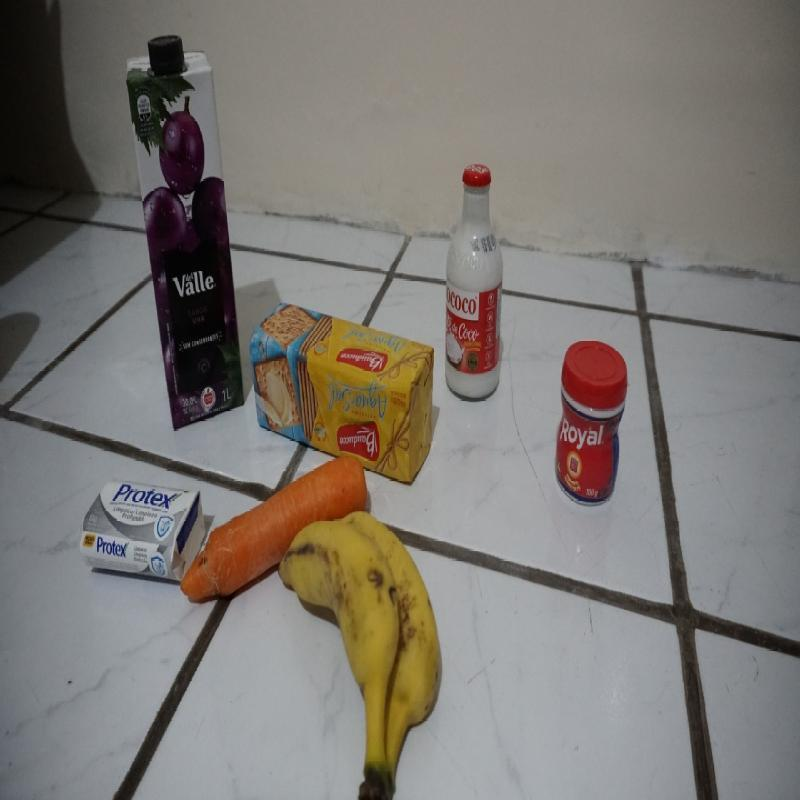Banana: (275, 512, 442, 798)
Carrot: (181, 452, 368, 613)
Coconut Milk: (444, 158, 502, 406)
Cracker: (247, 299, 435, 487)
Soap: (81, 477, 208, 589)
Yeast: (555, 338, 628, 508)
